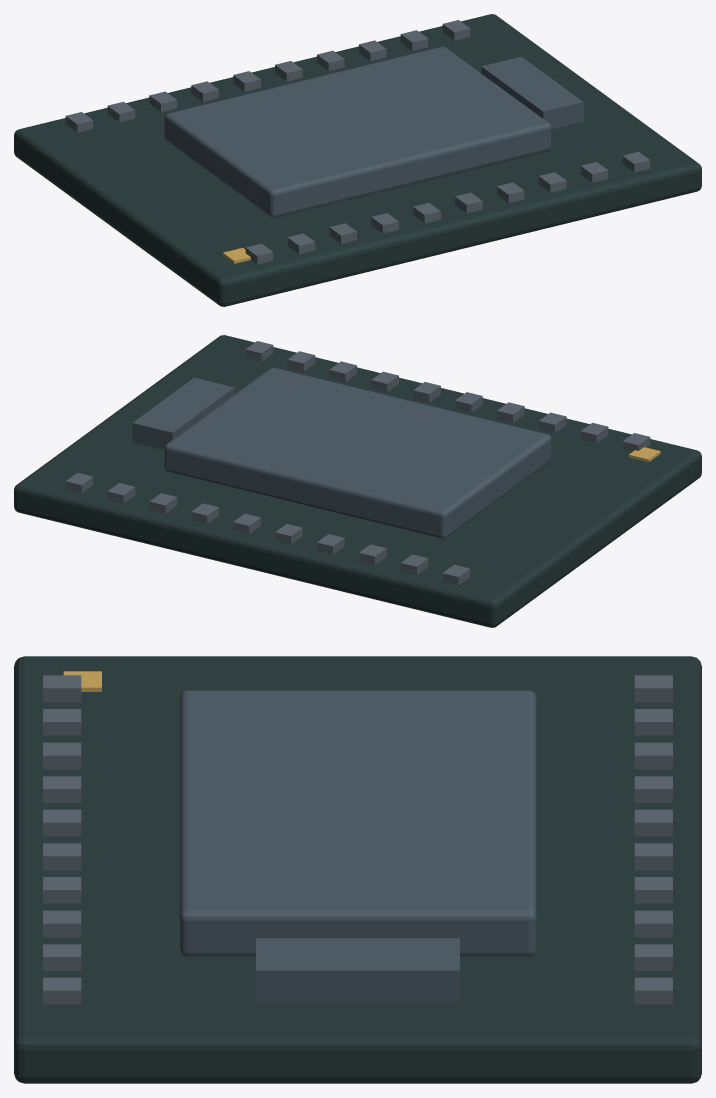
Rendered from cpu-mobile.glb.
3 views of the same model, one above another, from view 1: azimuth 30°, elevation 25°; view 2: azimuth 150°, elevation 25°; view 3: azimuth 270°, elevation 25° (orthographic). The views are drawn at different scales.
Visible parts, largest first — view 1: CPU_PCB_Deep_Slate, CPU_Silicon, CPU_Metal_Dark_Steel; view 2: CPU_PCB_Deep_Slate, CPU_Silicon, CPU_Metal_Dark_Steel; view 3: CPU_PCB_Deep_Slate, CPU_Silicon, CPU_Metal_Dark_Steel.
Part boxes in pixels (x1,y1,x2,y2): CPU_PCB_Deep_Slate: [14, 14, 701, 306]; CPU_Silicon: [164, 46, 583, 217]; CPU_Metal_Dark_Steel: [65, 20, 650, 264]; CPU_PCB_Deep_Slate: [14, 335, 701, 627]; CPU_Silicon: [132, 367, 551, 538]; CPU_Metal_Dark_Steel: [65, 341, 650, 585]; CPU_PCB_Deep_Slate: [14, 656, 701, 1083]; CPU_Silicon: [179, 690, 536, 1002]; CPU_Metal_Dark_Steel: [43, 675, 672, 1004].
Size of the model in its own units: 0.036 by 0.0043 by 0.027.
